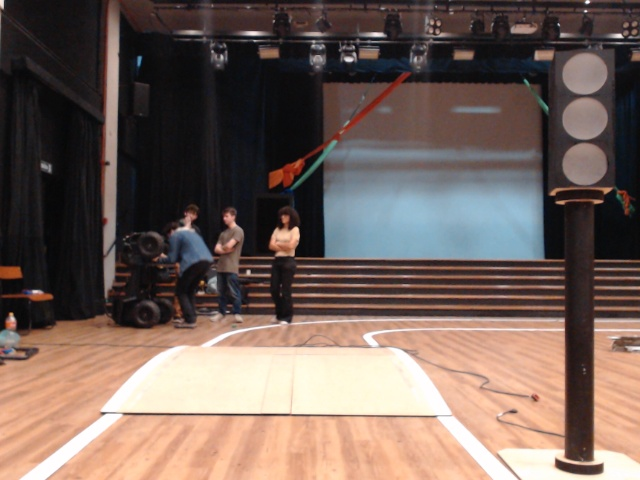SEMAFORO: (533, 37, 632, 212)
